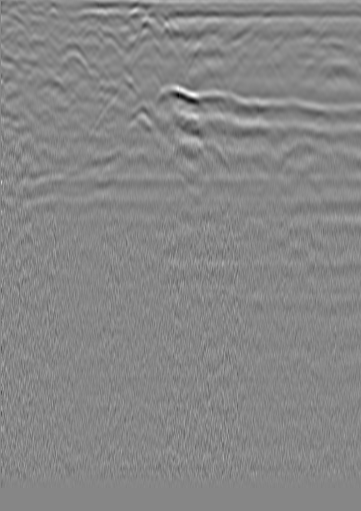오수: (1, 163, 360, 196)
우수: (289, 12, 309, 32)
